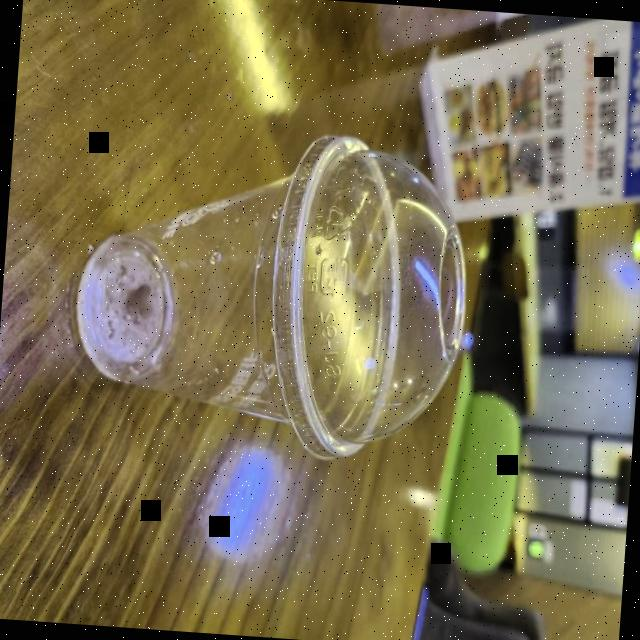plastic_cup_lid: (250, 120, 494, 482)
